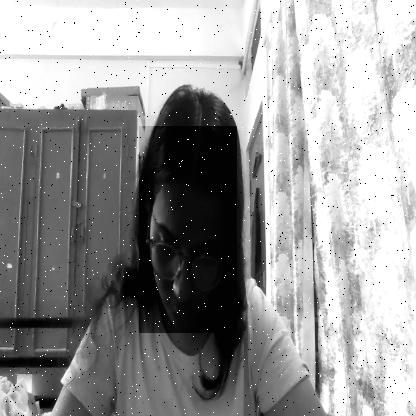Distracted: (139, 126, 237, 333)
